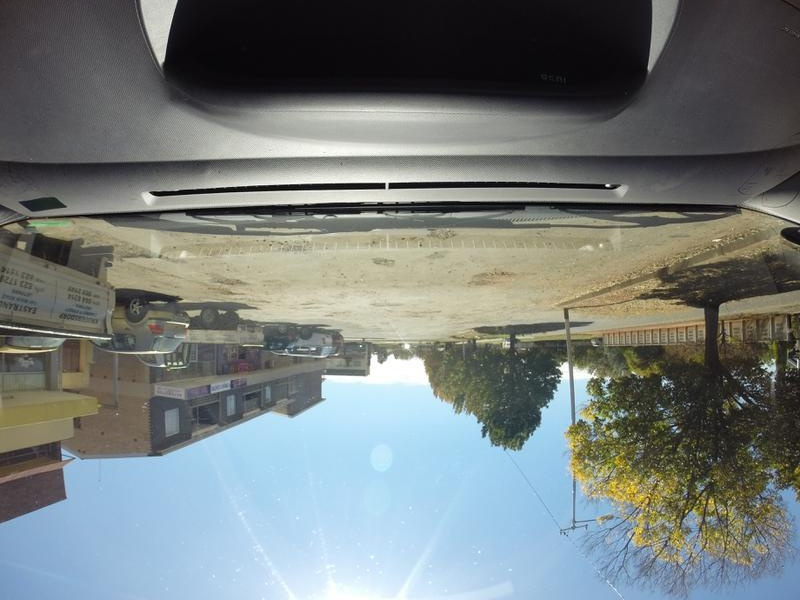pothole: (468, 268, 516, 284), (417, 229, 459, 243), (364, 254, 396, 270)
